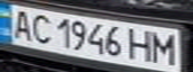1: (48, 16, 72, 48)
4: (87, 20, 109, 56)
6: (103, 24, 127, 58)
9: (66, 19, 87, 52)
A: (6, 7, 36, 40)
C: (27, 11, 57, 45)
H: (127, 27, 157, 63)
M: (148, 29, 184, 65)
